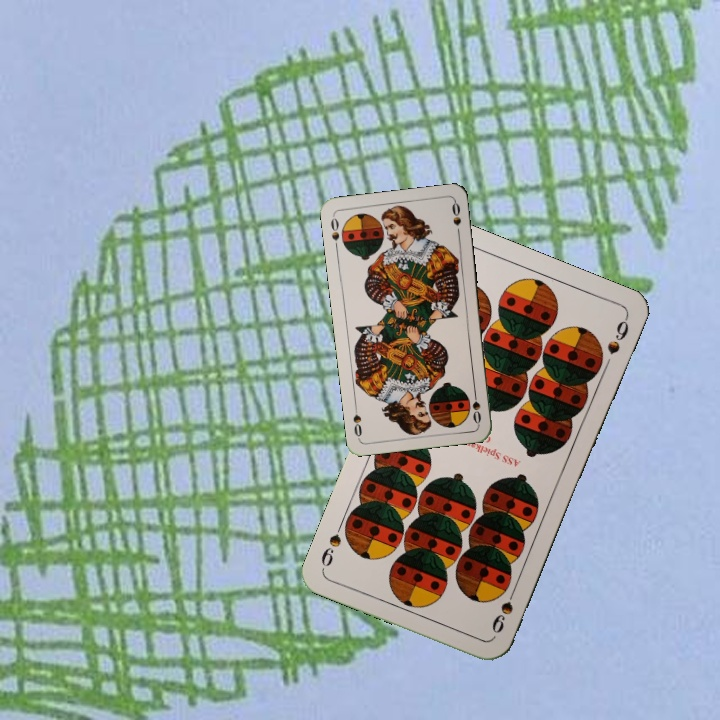S9: (487, 581, 520, 636)
SO: (468, 386, 484, 426), (327, 212, 342, 253)
